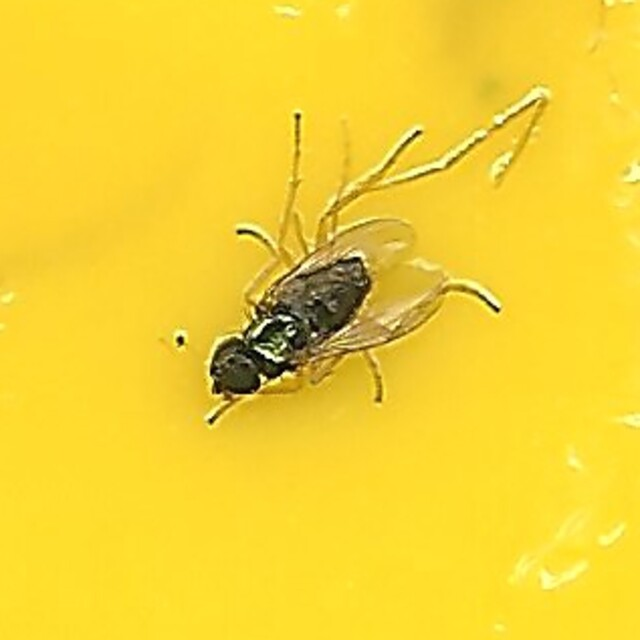Brachycera: (202, 221, 438, 419)
